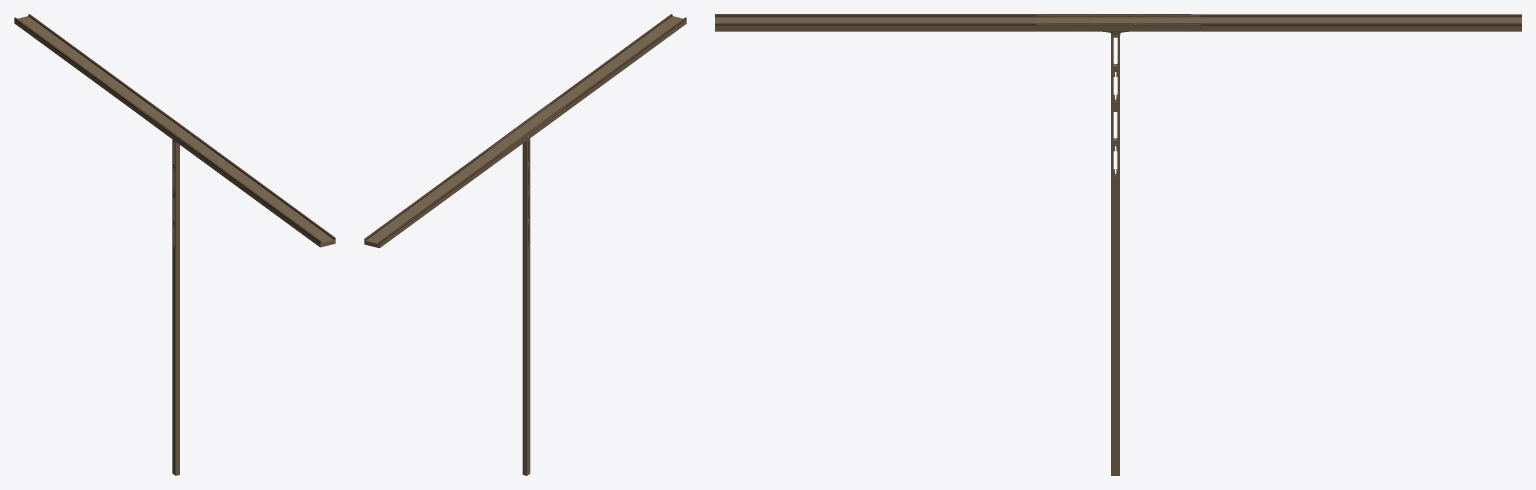
File: Bridge2.fbx
The picture shows the model from 3 angles, left to right: view 1: azimuth 30°, elevation 25°; view 2: azimuth 150°, elevation 25°; view 3: azimuth 270°, elevation 25°; orthographic projection. The views are drawn at different scales.
Visible parts, largest first — view 1: Bridge1; view 2: Bridge1; view 3: Bridge1.
Boxes of the visible parts, x1,y1,x2,y2 form: Bridge1: (14, 14, 335, 475); Bridge1: (364, 14, 686, 475); Bridge1: (715, 14, 1521, 475).
Bounding box in the file's own units: 19.8 × 423 × 678.
